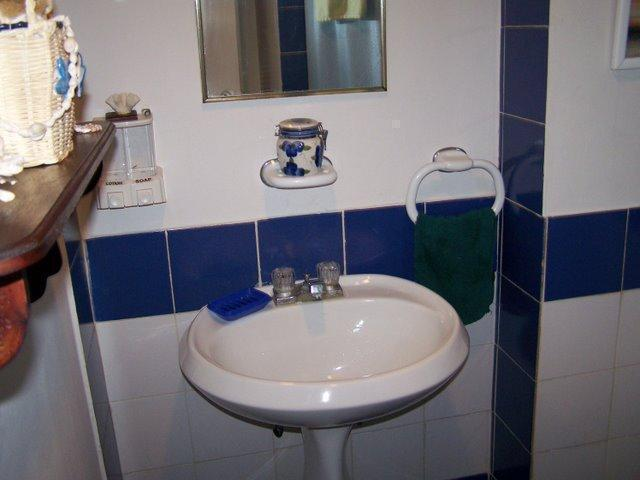Lavamanos: (179, 270, 472, 428)
